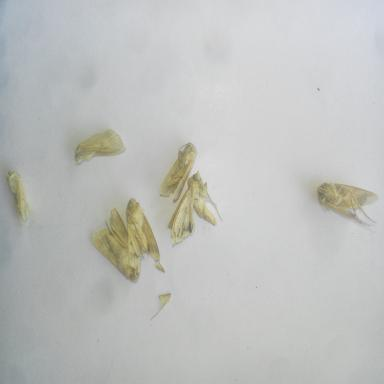abw: (165, 168, 223, 254), (86, 203, 144, 288), (315, 170, 381, 234), (121, 193, 165, 270), (156, 138, 199, 206), (70, 125, 130, 173), (3, 167, 36, 228)
